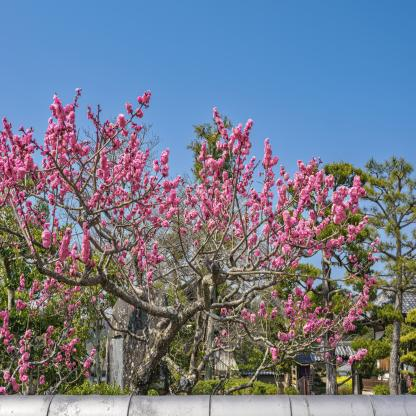Ume: (0, 81, 381, 395)
